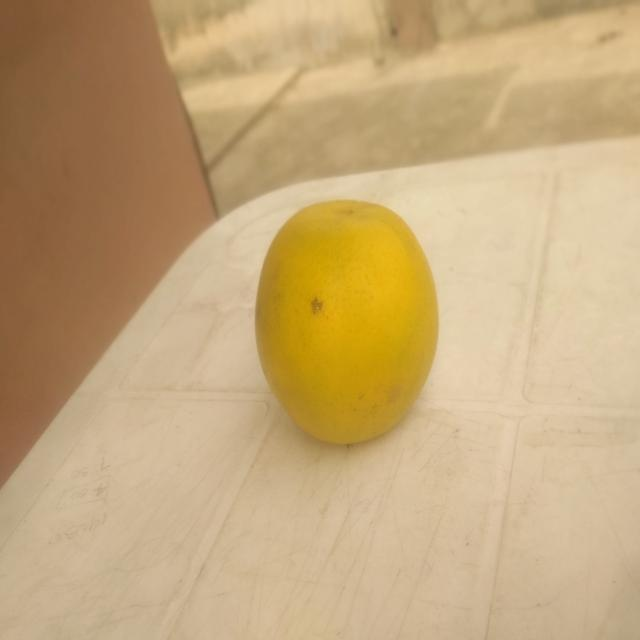agrume: (253, 194, 441, 449)
